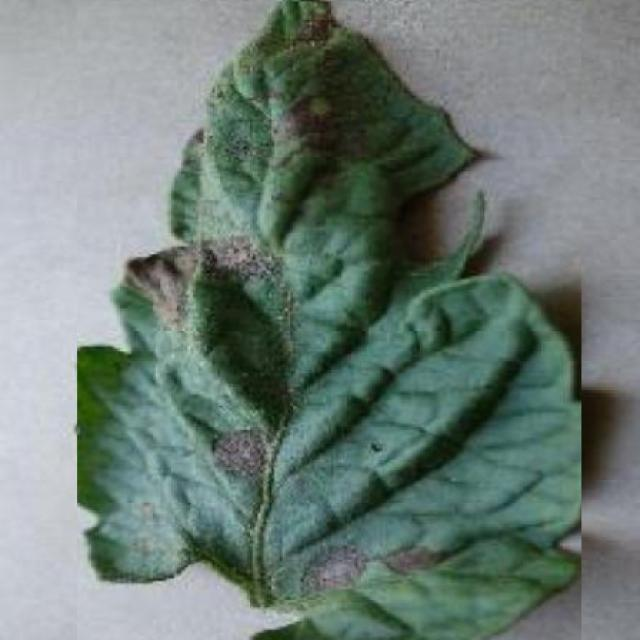Early Blight: (77, 1, 582, 640)
